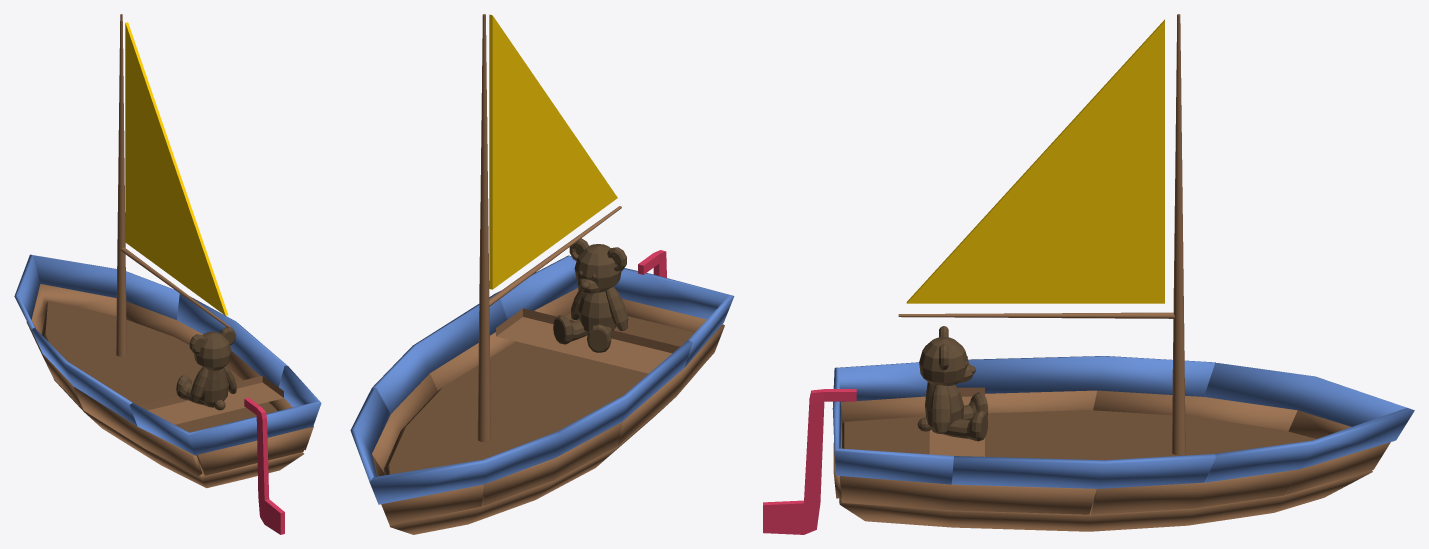
File: boat_lowpoly.glb
3 views of the same model, side by side, from view 1: azimuth 30°, elevation 25°; view 2: azimuth 150°, elevation 25°; view 3: azimuth 270°, elevation 25° (orthographic). The views are drawn at different scales.
Visible parts, largest first — view 1: Boat, Sail, Boden, Boat.003, Low poly Teddy bear, Mast, Bench, Boat.002, Rudder; view 2: Boat, Sail, Boden, Boat.003, Low poly Teddy bear, Mast, Bench, Boat.002, Rudder; view 3: Sail, Boat, Boat.003, Boden, Boat.002, Mast, Low poly Teddy bear, Rudder, Bench.
Boxes of the visible parts, left/top/right/bottom form: Boat: left=14, top=254, right=321, bottom=455; Sail: left=125, top=22, right=228, bottom=315; Boden: left=41, top=300, right=277, bottom=432; Boat.003: left=26, top=284, right=313, bottom=476; Low poly Teddy bear: left=176, top=327, right=236, bottom=410; Mast: left=116, top=14, right=231, bottom=356; Bench: left=139, top=375, right=283, bottom=424; Boat.002: left=54, top=379, right=303, bottom=488; Rudder: left=244, top=397, right=284, bottom=534; Boat: left=350, top=255, right=734, bottom=504; Sail: left=489, top=14, right=617, bottom=289; Boden: left=383, top=313, right=694, bottom=475; Boat.003: left=372, top=288, right=724, bottom=525; Low poly Teddy bear: left=553, top=238, right=628, bottom=352; Mast: left=477, top=14, right=621, bottom=442; Bench: left=496, top=308, right=679, bottom=373; Boat.002: left=389, top=367, right=701, bottom=534; Rudder: left=638, top=250, right=666, bottom=277; Sail: left=906, top=19, right=1164, bottom=303; Boat: left=832, top=356, right=1414, bottom=488; Boat.003: left=833, top=390, right=1390, bottom=514; Boden: left=842, top=410, right=1316, bottom=460; Boat.002: left=839, top=470, right=1372, bottom=531; Mast: left=898, top=14, right=1185, bottom=455; Low poly Teddy bear: left=917, top=326, right=988, bottom=441; Rudder: left=763, top=389, right=856, bottom=534; Bench: left=929, top=387, right=984, bottom=456.
Bounding box in the file's own units: 2.82 × 6.31 × 7.18.
